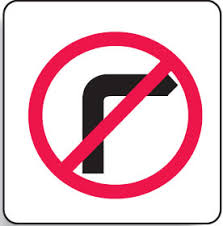No_right_turn: (27, 31, 203, 199)
